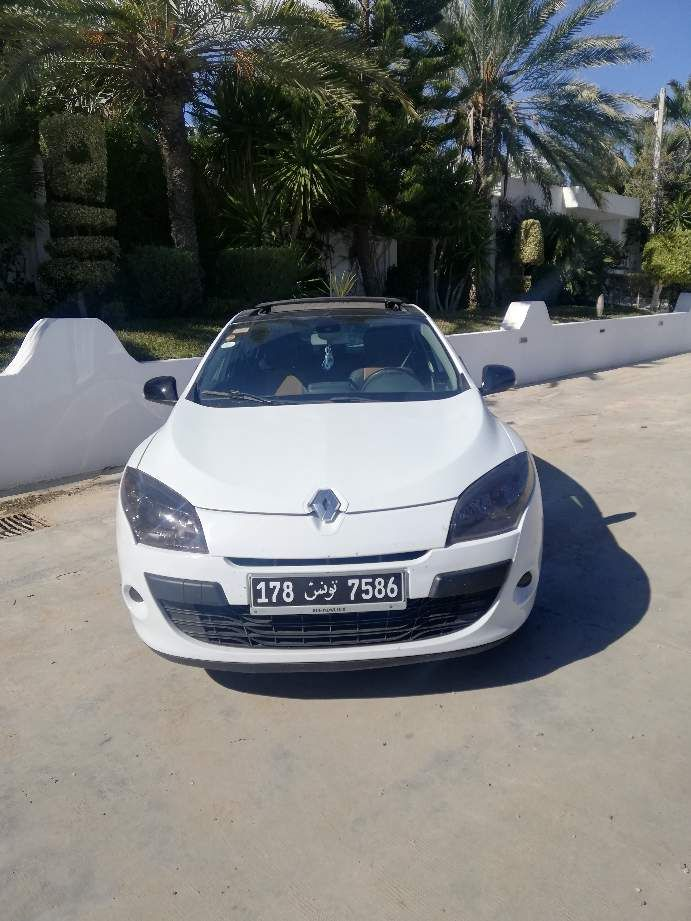LP: (250, 572, 407, 607)
